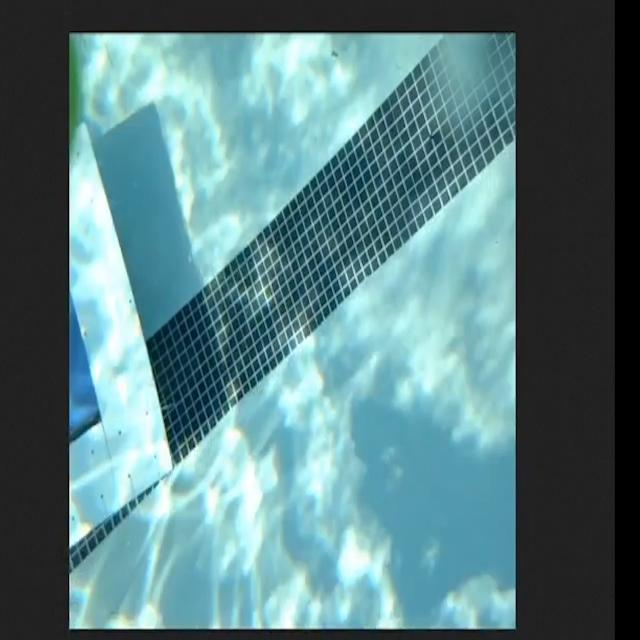Bin: (68, 124, 173, 550)
